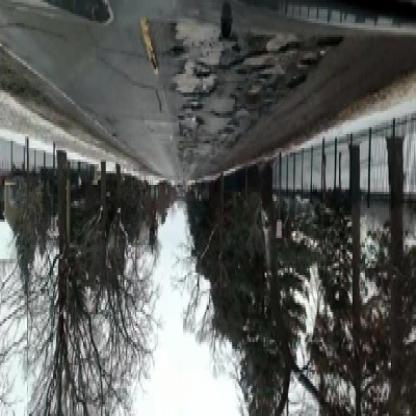pothole: (232, 34, 331, 106), (162, 10, 228, 98)
